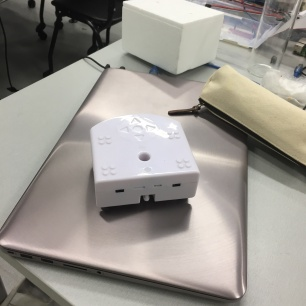thymio: (83, 111, 205, 212)
